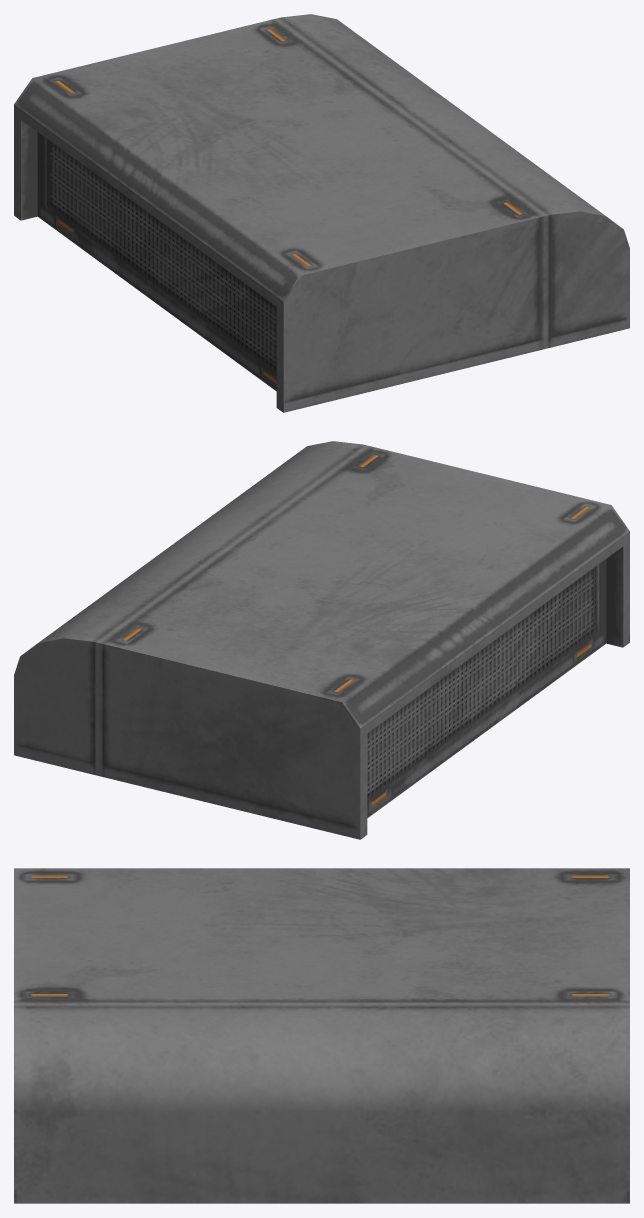
Rendered from CP_Ventilation_01.fbx.
3 views of the same model, one above another, from view 1: azimuth 30°, elevation 25°; view 2: azimuth 150°, elevation 25°; view 3: azimuth 270°, elevation 25° (orthographic). The views are drawn at different scales.
Parts seen in each view (by area): view 1: CP_Ventilation_01; view 2: CP_Ventilation_01; view 3: CP_Ventilation_01.
Part boxes in pixels (x1=…): CP_Ventilation_01: x1=14, y1=14, x2=629, y2=412; CP_Ventilation_01: x1=14, y1=441, x2=629, y2=839; CP_Ventilation_01: x1=14, y1=868, x2=629, y2=1203.
Bounding box in the file's own units: 86.77 × 31.84 × 117.
